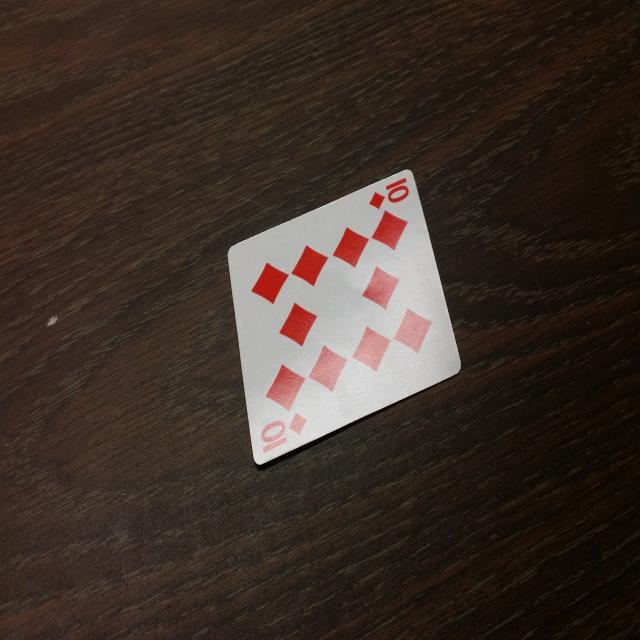10d: (254, 391, 309, 458), (360, 164, 414, 220)
